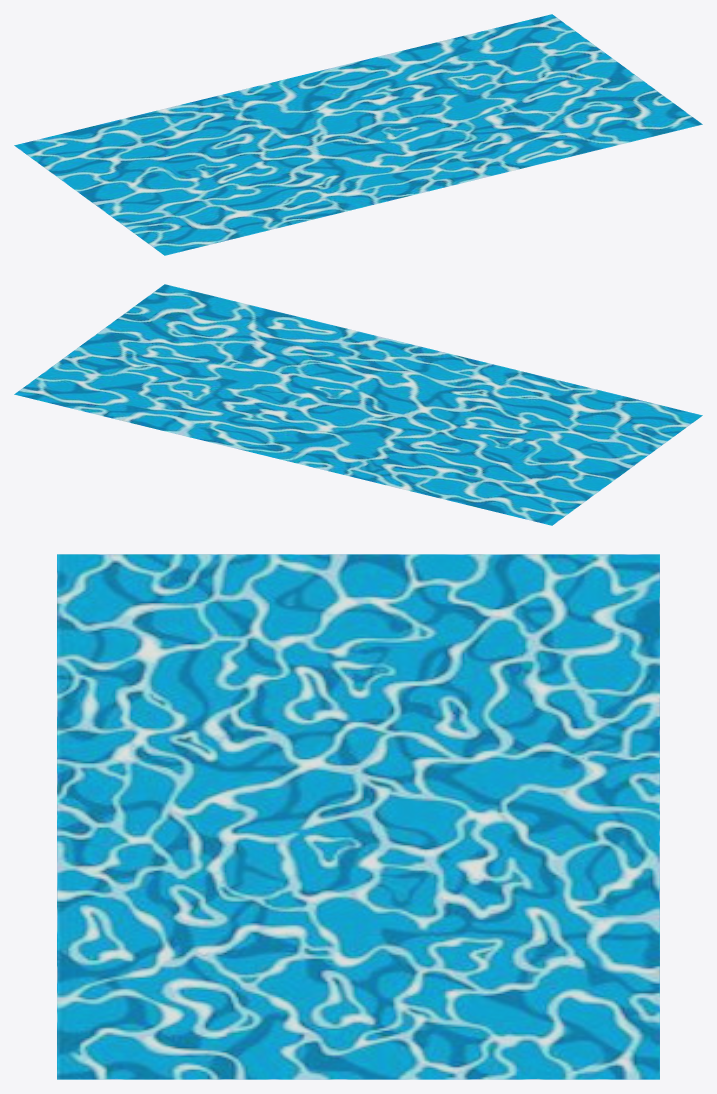
File: aguaPecera.obj
The picture shows the model from 3 angles, top to bottom: view 1: azimuth 30°, elevation 25°; view 2: azimuth 150°, elevation 25°; view 3: azimuth 270°, elevation 25°; orthographic projection. The views are drawn at different scales.
Parts seen in each view (by area): view 1: pPlane3; view 2: pPlane3; view 3: pPlane3.
Boxes of the visible parts, box(x1,y1,x2,y2) form: pPlane3: box(14, 14, 702, 255); pPlane3: box(14, 284, 702, 525); pPlane3: box(57, 554, 659, 1079).
Bounding box in the file's own units: 0.5066 × 0 × 0.2458.
1 material, 1 textured.
